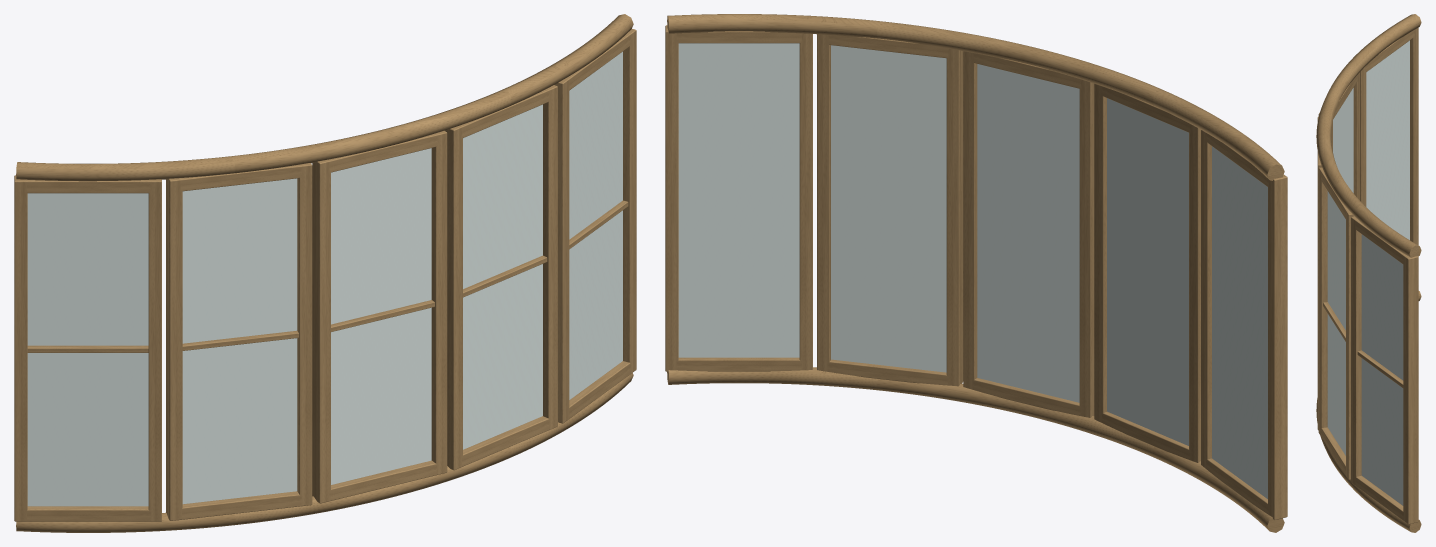
File: bow-window.glb
3 renders of one model, left to right at view 1: azimuth 30°, elevation 25°; view 2: azimuth 150°, elevation 25°; view 3: azimuth 270°, elevation 25°, orthographic. The views are drawn at different scales.
Visible parts, largest first — view 1: Sash | glass pane, Sash | glass pane.001, Sash | glass pane.002, Sash | glass pane.003, Sash | glass pane.004, Bow | continuous curved cap.001, Bow | continuous curved cap, Sash | stile.004, Sash | stile.002, Sash | stile.005, Sash | stile.006, Sash | stile.003 (+19 smaller); view 2: Sash | glass pane.004, Sash | glass pane.003, Sash | glass pane.002, Sash | glass pane.001, Sash | glass pane, Bow | continuous curved cap.001, Bow | continuous curved cap, Sash | stile, Sash | stile.006, Sash | stile.004, Sash | stile.005, Sash | stile.009 (+15 smaller); view 3: Sash | glass pane.004, Sash | glass pane, Bow | continuous curved cap.001, Sash | glass pane.003, Sash | stile.009, Sash | stile.008, Sash | stile.006, Sash | stile, Sash | glass pane.001, Sash | stile.007, Sash | stile.001, Bow | continuous curved cap (+10 smaller).
Part boxes in pixels (x1,y1,x2,y2): Sash | glass pane: (27, 193, 148, 506); Sash | glass pane.001: (182, 178, 297, 504); Sash | glass pane.002: (331, 148, 431, 484); Sash | glass pane.003: (463, 104, 542, 449); Sash | glass pane.004: (569, 51, 622, 399); Bow | continuous curved cap.001: (16, 14, 633, 181); Bow | continuous curved cap: (16, 373, 633, 532); Sash | stile.004: (312, 159, 330, 503); Sash | stile.002: (166, 178, 182, 520); Sash | stile.005: (431, 130, 447, 474); Sash | stile.006: (445, 126, 462, 470); Sash | stile.003: (297, 163, 312, 506); Sash | glass pane.004: (678, 43, 799, 357); Sash | glass pane.003: (831, 45, 946, 372); Sash | glass pane.002: (977, 64, 1079, 402); Sash | glass pane.001: (1107, 98, 1188, 445); Sash | glass pane: (1212, 146, 1267, 498); Bow | continuous curved cap.001: (667, 14, 1284, 180); Bow | continuous curved cap: (667, 367, 1284, 532); Sash | stile: (1268, 174, 1287, 520); Sash | stile.006: (946, 48, 963, 386); Sash | stile.004: (1079, 79, 1094, 417); Sash | stile.005: (963, 51, 977, 389); Sash | stile.009: (665, 25, 678, 371); Sash | glass pane.004: (1361, 234, 1403, 505); Sash | glass pane: (1366, 40, 1409, 239); Bow | continuous curved cap.001: (1316, 14, 1421, 257); Sash | glass pane.003: (1327, 191, 1345, 455); Sash | stile.009: (1403, 255, 1418, 524); Sash | stile.008: (1351, 216, 1361, 485); Sash | stile.006: (1318, 167, 1327, 435); Sash | stile: (1410, 27, 1418, 245); Sash | glass pane.001: (1333, 88, 1353, 192); Sash | stile.007: (1346, 210, 1353, 479); Sash | stile.001: (1360, 66, 1366, 206); Bow | continuous curved cap: (1316, 291, 1421, 532).
Bounding box in the file's own units: 2.25 × 1.28 × 0.4227.
3 materials, 3 textured.
